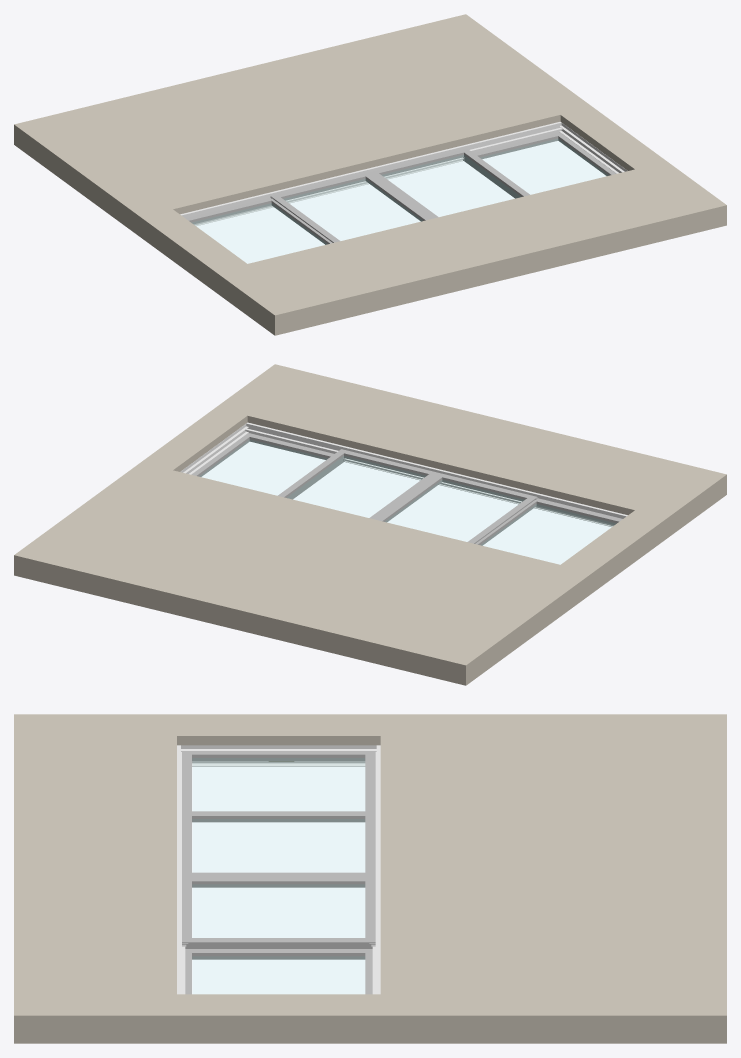
File: Window05.gltf
3 renders of one model, top to bottom at view 1: azimuth 30°, elevation 25°; view 2: azimuth 150°, elevation 25°; view 3: azimuth 270°, elevation 25°, orthographic. The views are drawn at different scales.
Visible parts, largest first — view 1: SIP, WindowCasement, WindowFrame; view 2: SIP, WindowCasement, WindowFrame; view 3: SIP, WindowCasement, WindowFrame.
Part boxes in pixels (x1,y1,x2,y2): SIP: (14,14,726,335); WindowCasement: (185,132,616,244); WindowFrame: (180,121,627,226); SIP: (14,364,726,685); WindowCasement: (191,433,622,545); WindowFrame: (180,422,627,526); SIP: (14,714,726,1043); WindowCasement: (182,751,375,994); WindowFrame: (177,745,380,994).
Bounding box in the file's own units: 3.5 × 0.1525 × 3.5.
